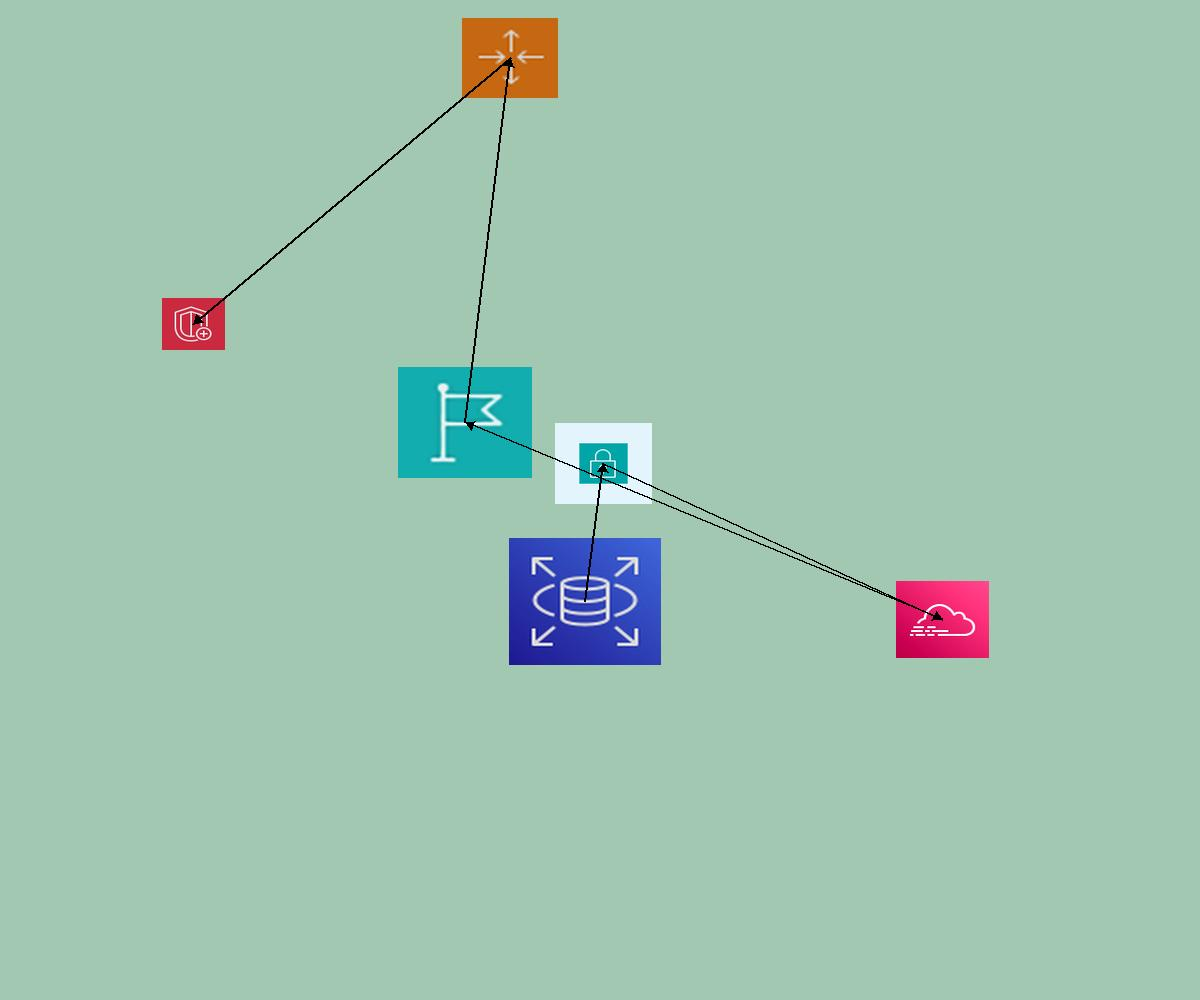AWS-CloudTrail: (896, 581, 989, 658)
AWS-Private-subnet: (555, 423, 652, 504)
AWS-RDS: (509, 538, 661, 665)
AWS-Region: (398, 367, 532, 478)
AWS-Scaling-group: (462, 18, 558, 98)
AWS-Shield: (162, 298, 225, 350)
